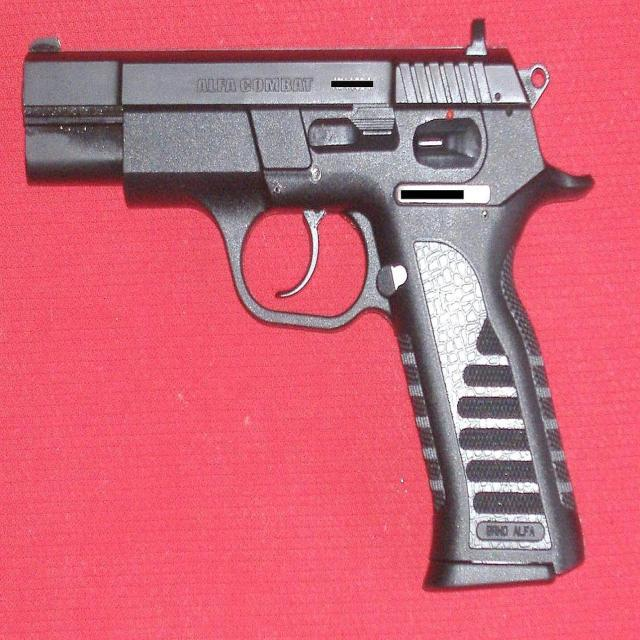Pistol: (6, 20, 635, 627)
